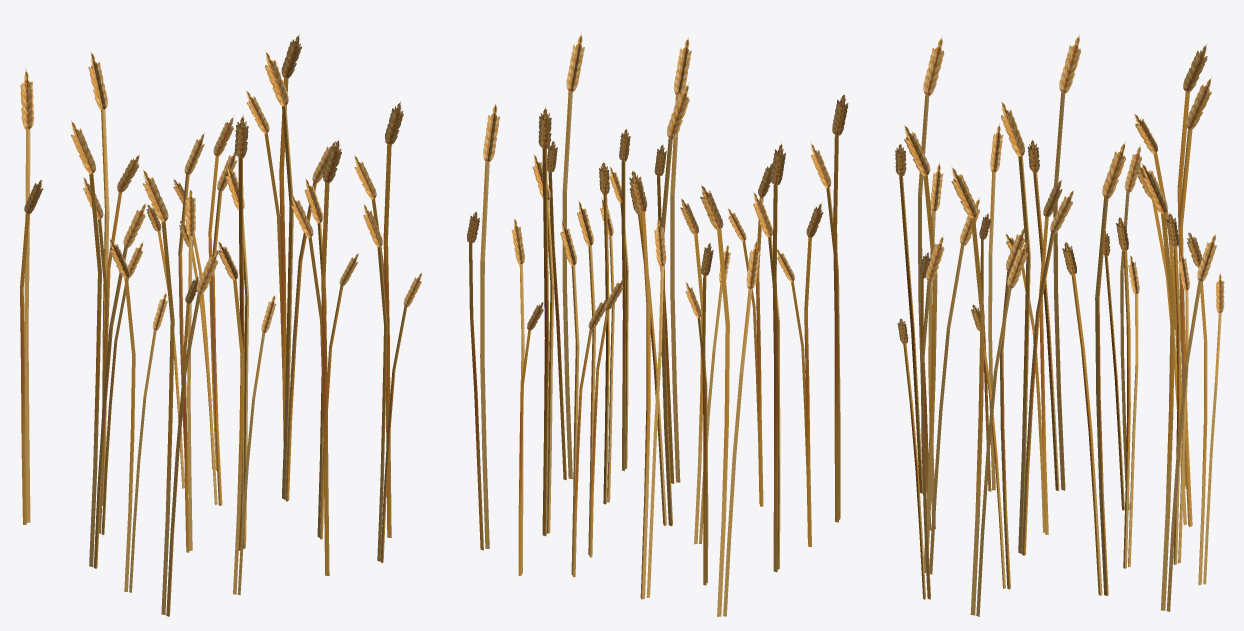
File: wheat.fbx
3 views of the same model, side by side, from view 1: azimuth 30°, elevation 25°; view 2: azimuth 150°, elevation 25°; view 3: azimuth 270°, elevation 25° (orthographic). The views are drawn at different scales.
Visible parts, largest first — view 1: Plane.020; view 2: Plane.020; view 3: Plane.020.
Boxes of the visible parts, x1,y1,x2,y2 form: Plane.020: (20,34,421,616); Plane.020: (467,32,848,616); Plane.020: (895,35,1224,616).
Bounding box in the file's own units: 0.9591 × 1.46 × 0.9702.
